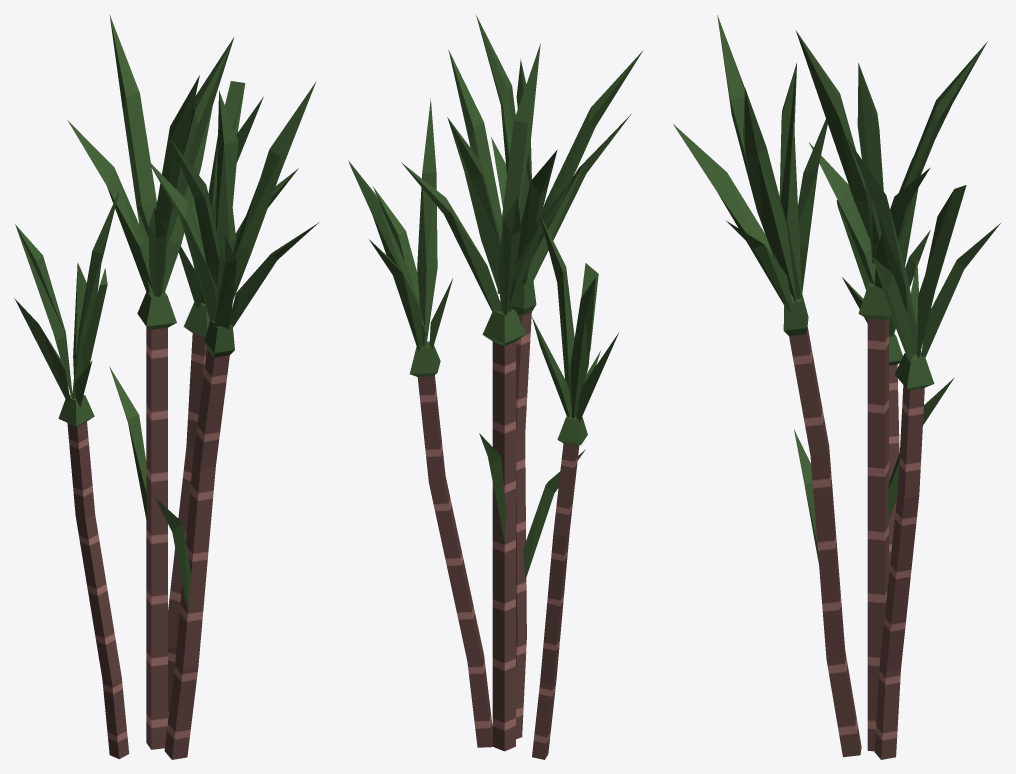
Rendered from SM_Env_SugarCane_02.glb.
The picture shows the model from 3 angles, left to right: view 1: azimuth 30°, elevation 25°; view 2: azimuth 150°, elevation 25°; view 3: azimuth 270°, elevation 25°; orthographic projection. The views are drawn at different scales.
Visible parts, largest first — view 1: SM_Env_SugarCane_02_part00; view 2: SM_Env_SugarCane_02_part00; view 3: SM_Env_SugarCane_02_part00.
Part boxes in pixels (x1,y1,x2,y2): SM_Env_SugarCane_02_part00: (14, 15, 319, 759); SM_Env_SugarCane_02_part00: (348, 15, 643, 759); SM_Env_SugarCane_02_part00: (673, 15, 1000, 759).
Size of the model in its own units: 0.8627 by 2.14 by 0.8838.
Materials: 1 (1 with a texture image).
